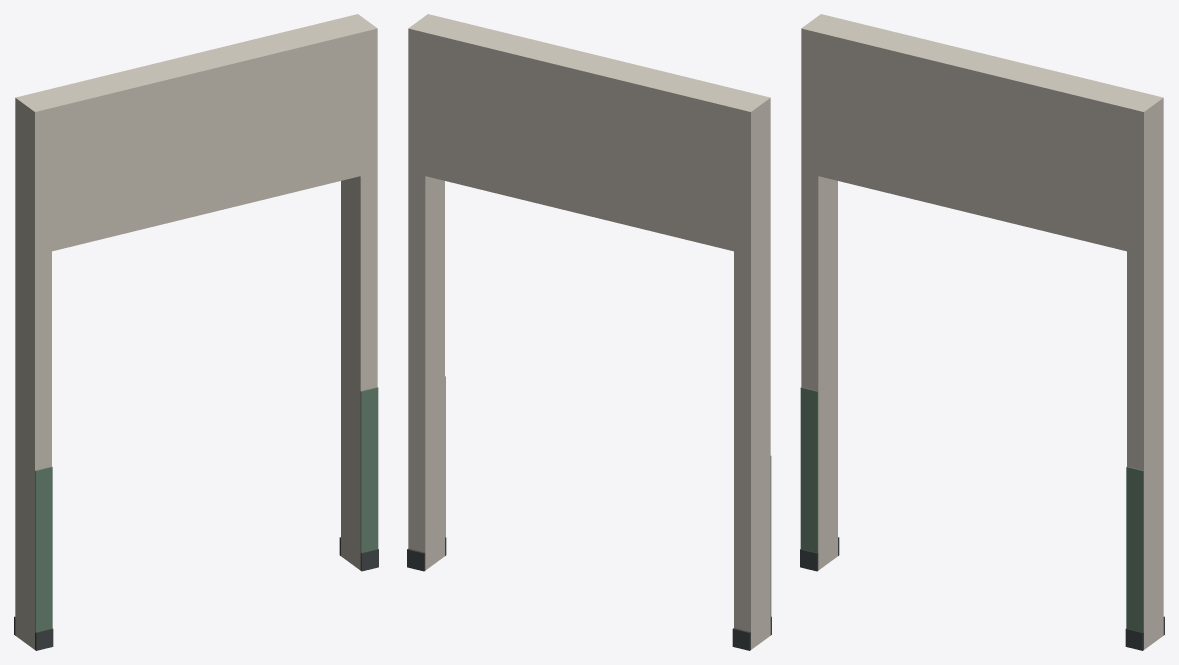
The model's file is MOD_Wall_2m_Door1800.glb.
The picture shows the model from 3 angles, left to right: view 1: azimuth 30°, elevation 25°; view 2: azimuth 150°, elevation 25°; view 3: azimuth 330°, elevation 25°; orthographic projection.
Parts seen in each view (by area): view 1: MOD_Wall_2m_Door1800_Mesh; view 2: MOD_Wall_2m_Door1800_Mesh; view 3: MOD_Wall_2m_Door1800_Mesh.
Boxes of the visible parts, left/top/right/bottom form: MOD_Wall_2m_Door1800_Mesh: left=14, top=14, right=378, bottom=650; MOD_Wall_2m_Door1800_Mesh: left=407, top=14, right=771, bottom=650; MOD_Wall_2m_Door1800_Mesh: left=800, top=14, right=1164, bottom=650.
Size of what is drawn, in the model's own units: 2 by 3 by 0.224.
